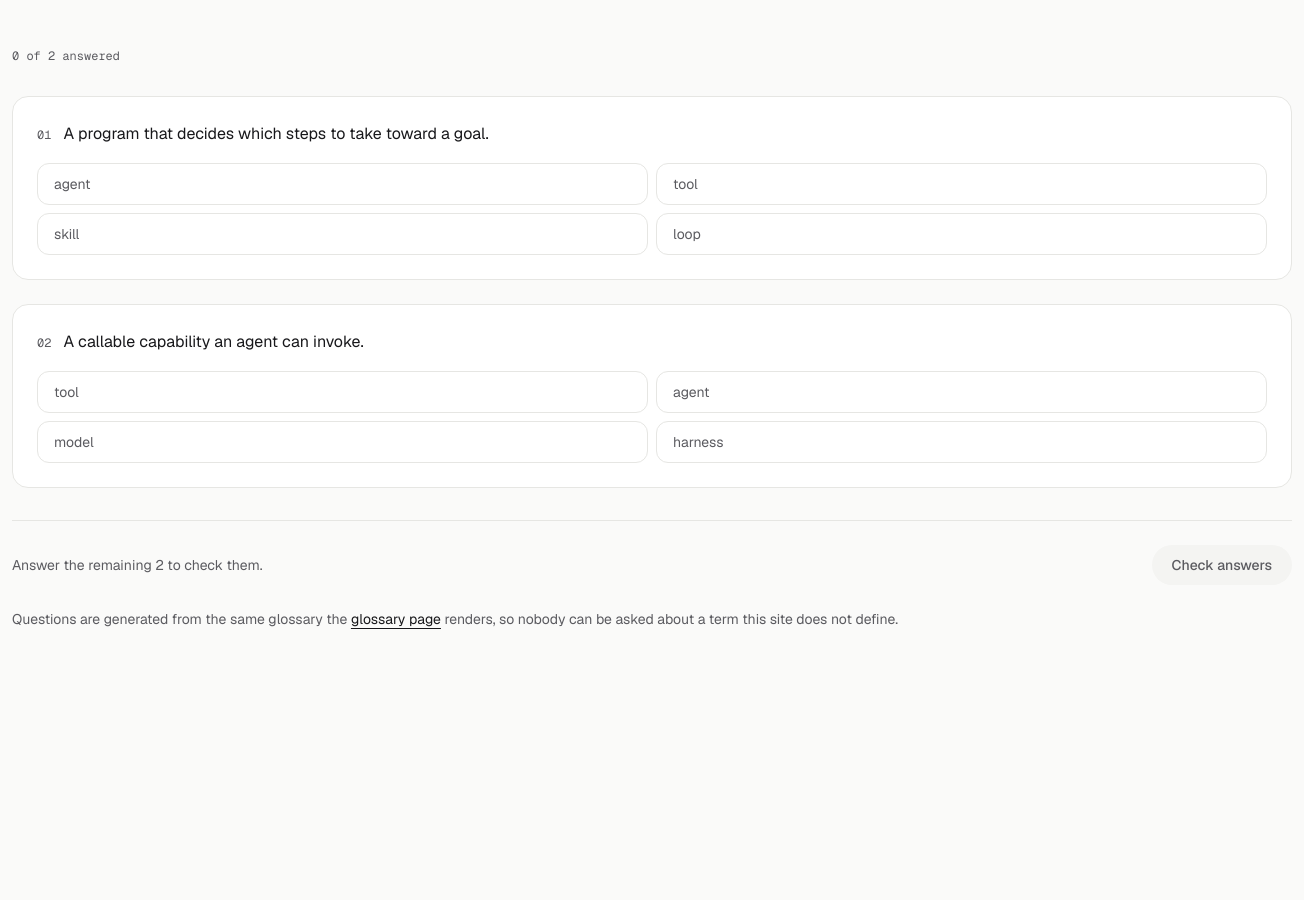
Test: GlossaryQuiz › locks the options once the paper is checked
The width and height of the screenshot is (1304, 900).
Step 1. Click the button "agent" below "01" → coordinates (72, 184), box [37,163,648,205]
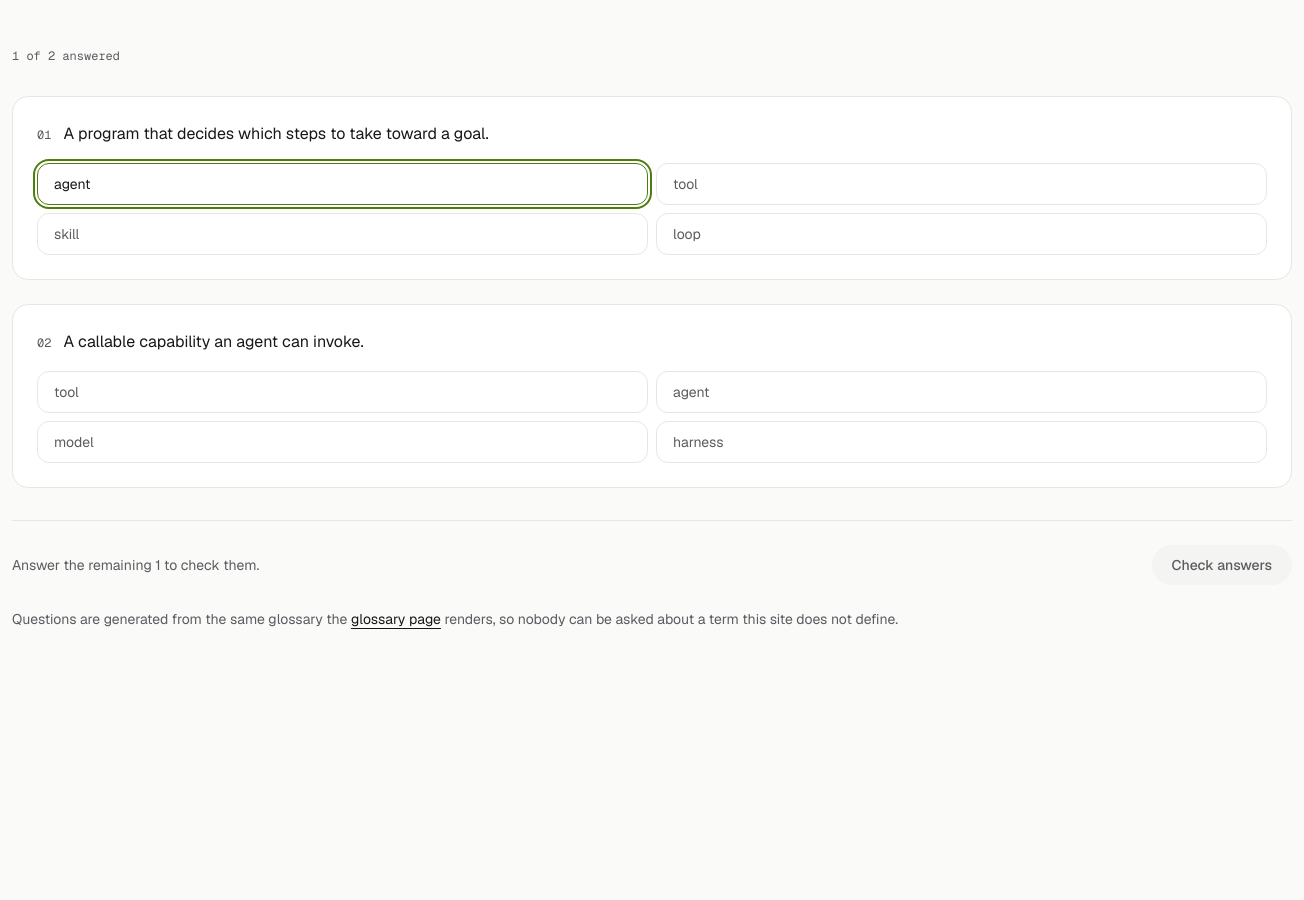
Step 2. Click the button "tool" below "02" → coordinates (66, 392), box [37,371,648,413]
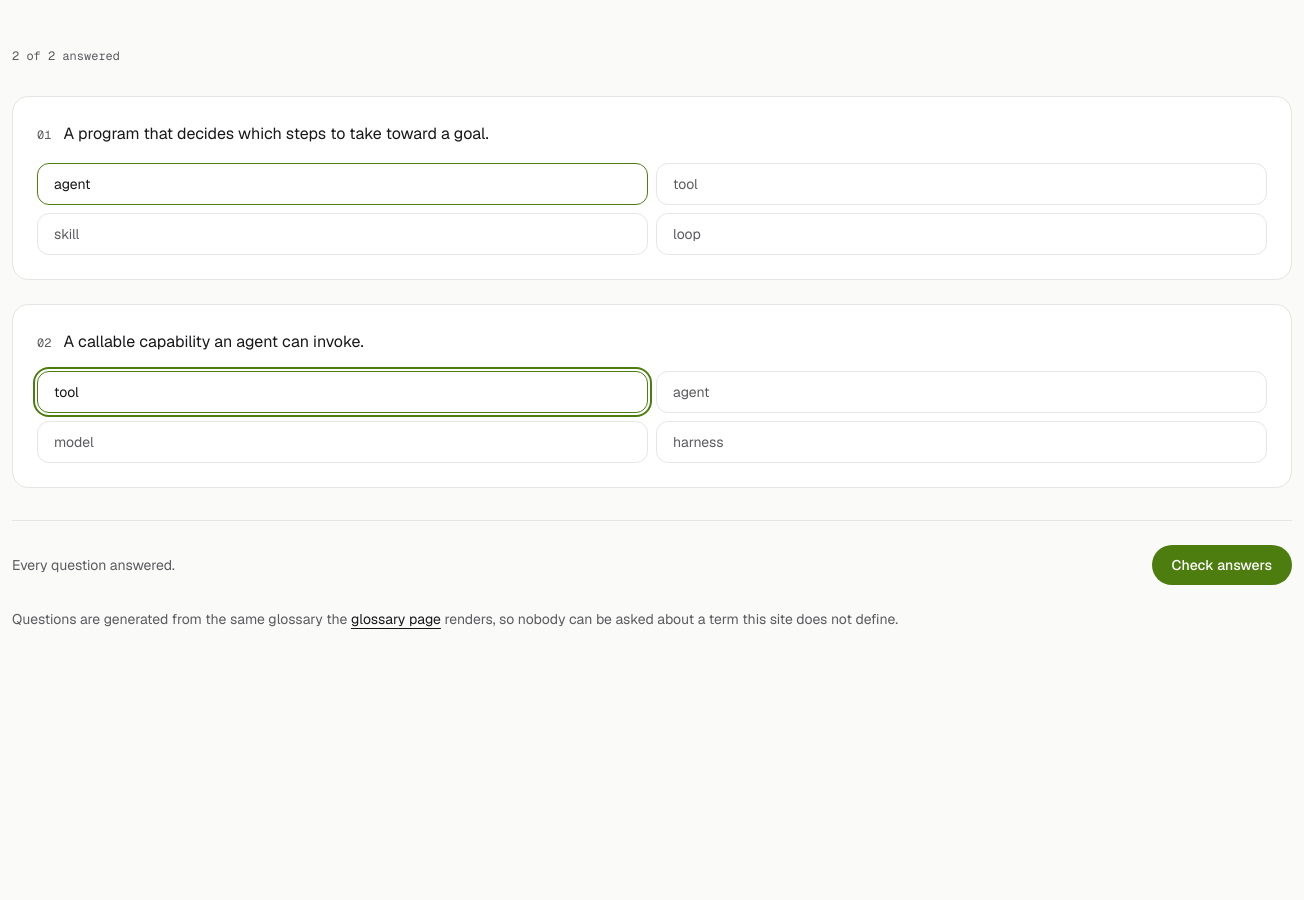
Step 3. Click the button "Check answers" → coordinates (1222, 565), box [1152,545,1292,585]
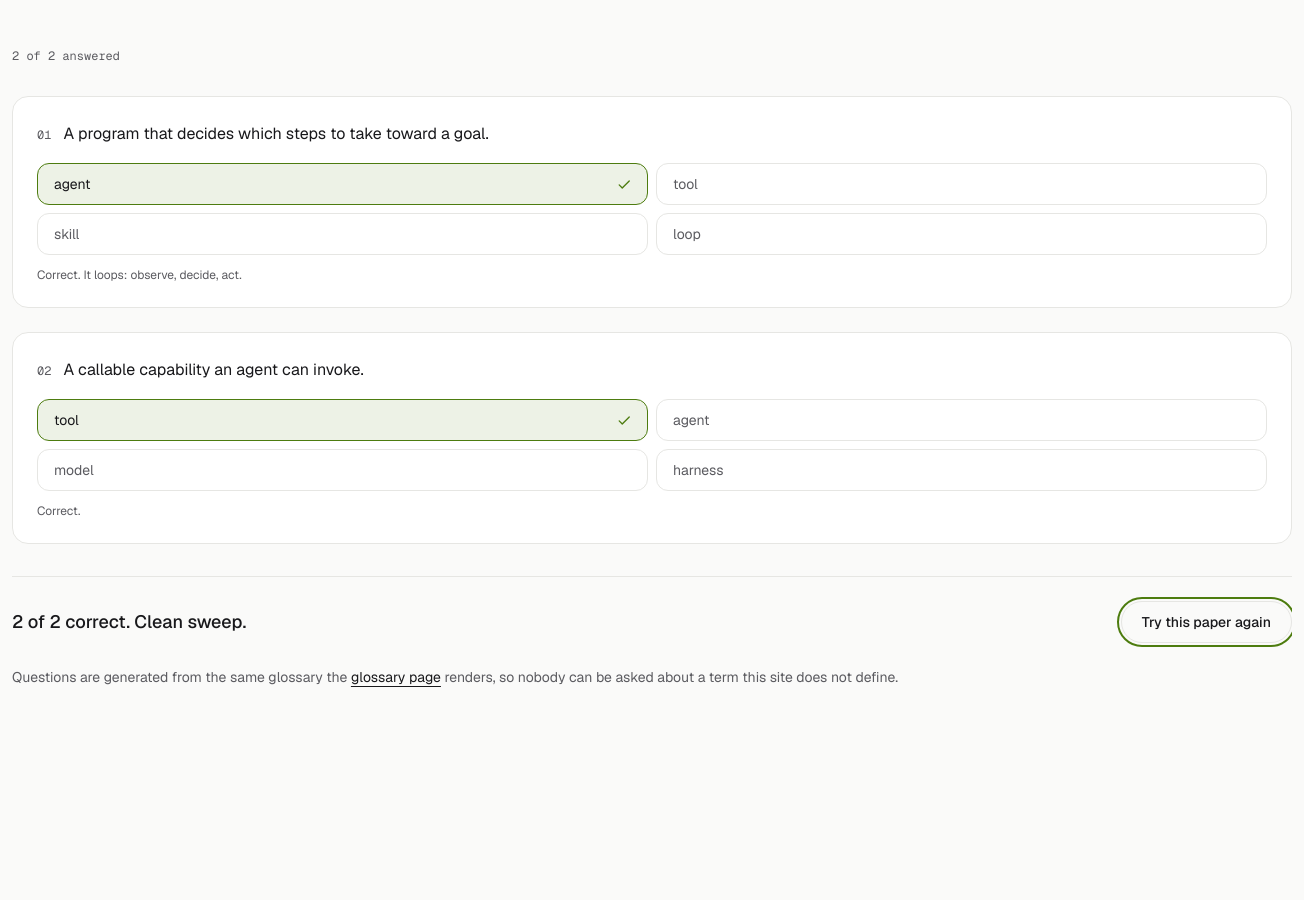
Check: the button "agent" below "01" is disabled, box [37,163,648,205]
Check: the text "2 of 2 correct. Clean sweep." is shown, box [12,608,246,636]
